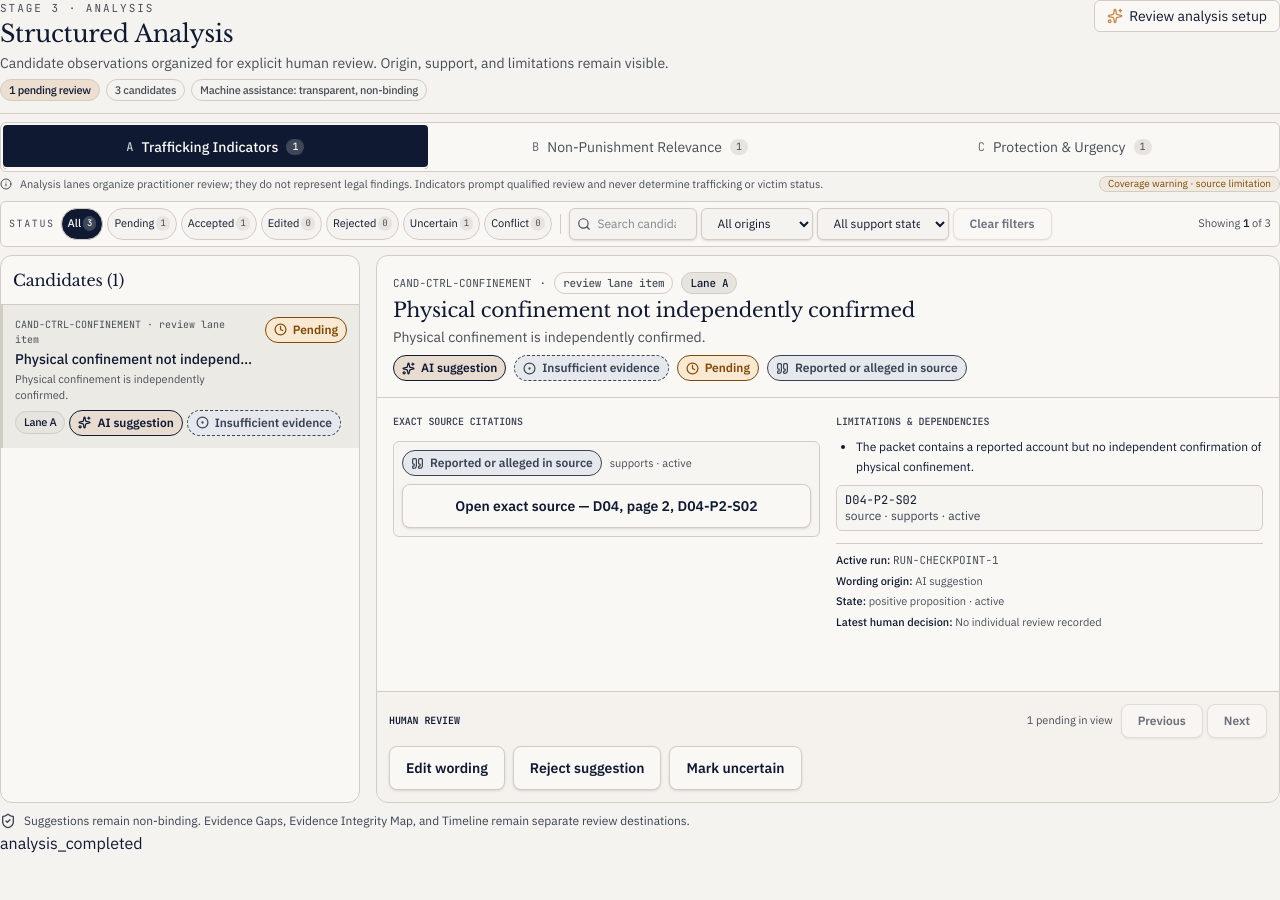
Test: Phase 3 Structured Analysis › opens withdrawal in an accessible overlay instead of expanding the workspace
Click the tab with aria-label "Lane C — Protection & Urgency". click: (1065, 147)
box: [852,125,1277,169]
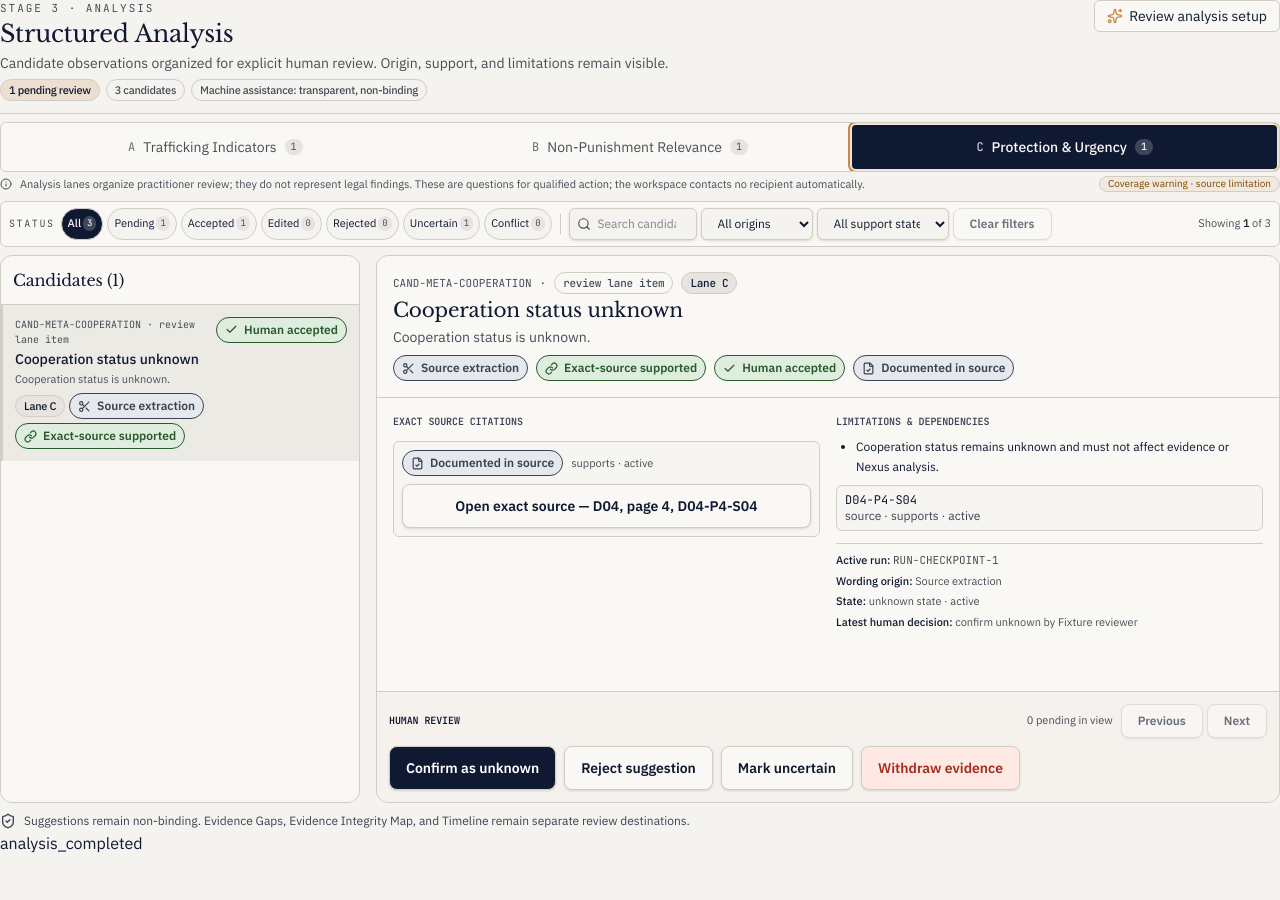
Click the button with aria-label "Select candidate CAND-META-COOPERATION". click: (78, 324)
box: [1,304,359,461]
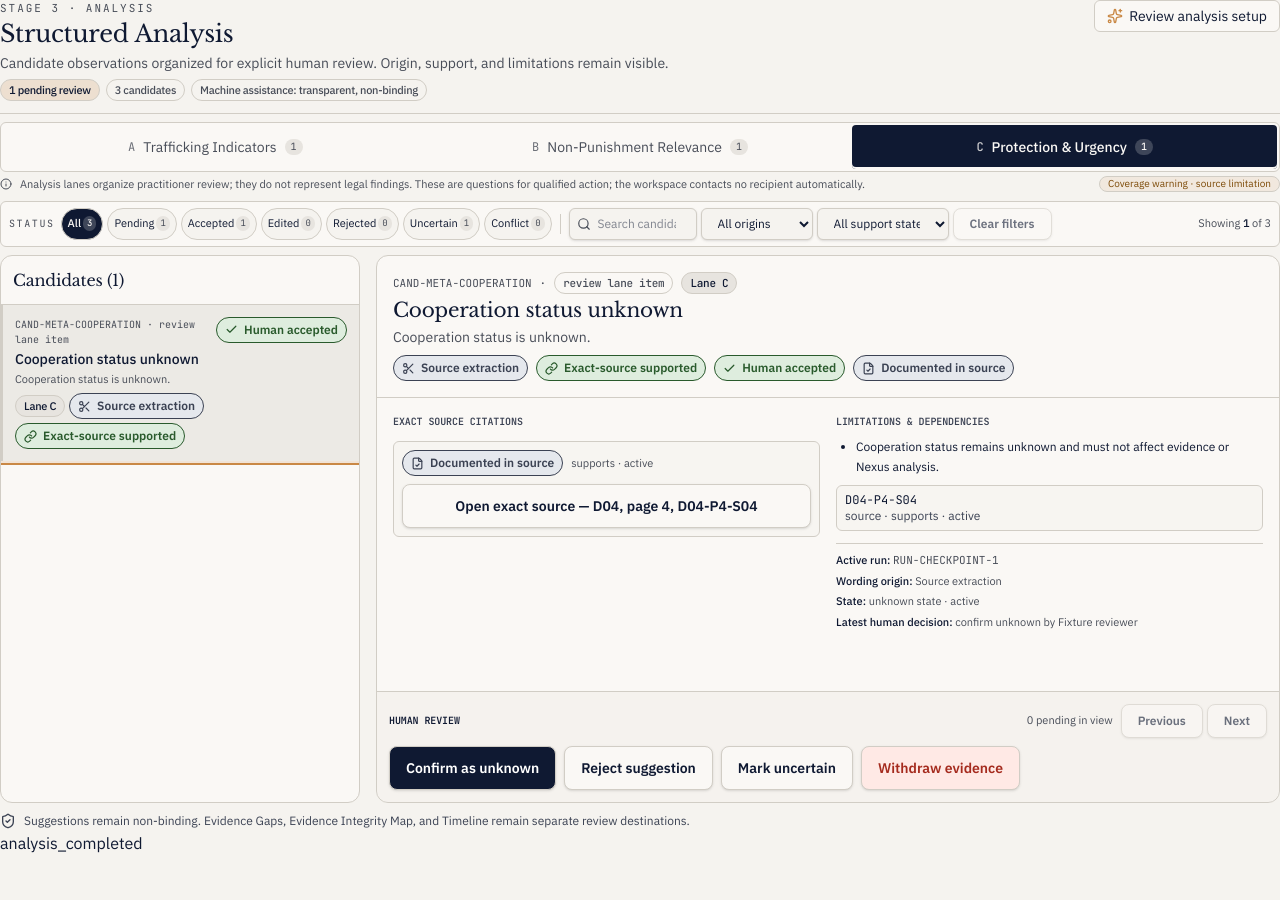
Click the button "Withdraw evidence". click: (940, 768)
box: [861,746,1020,790]
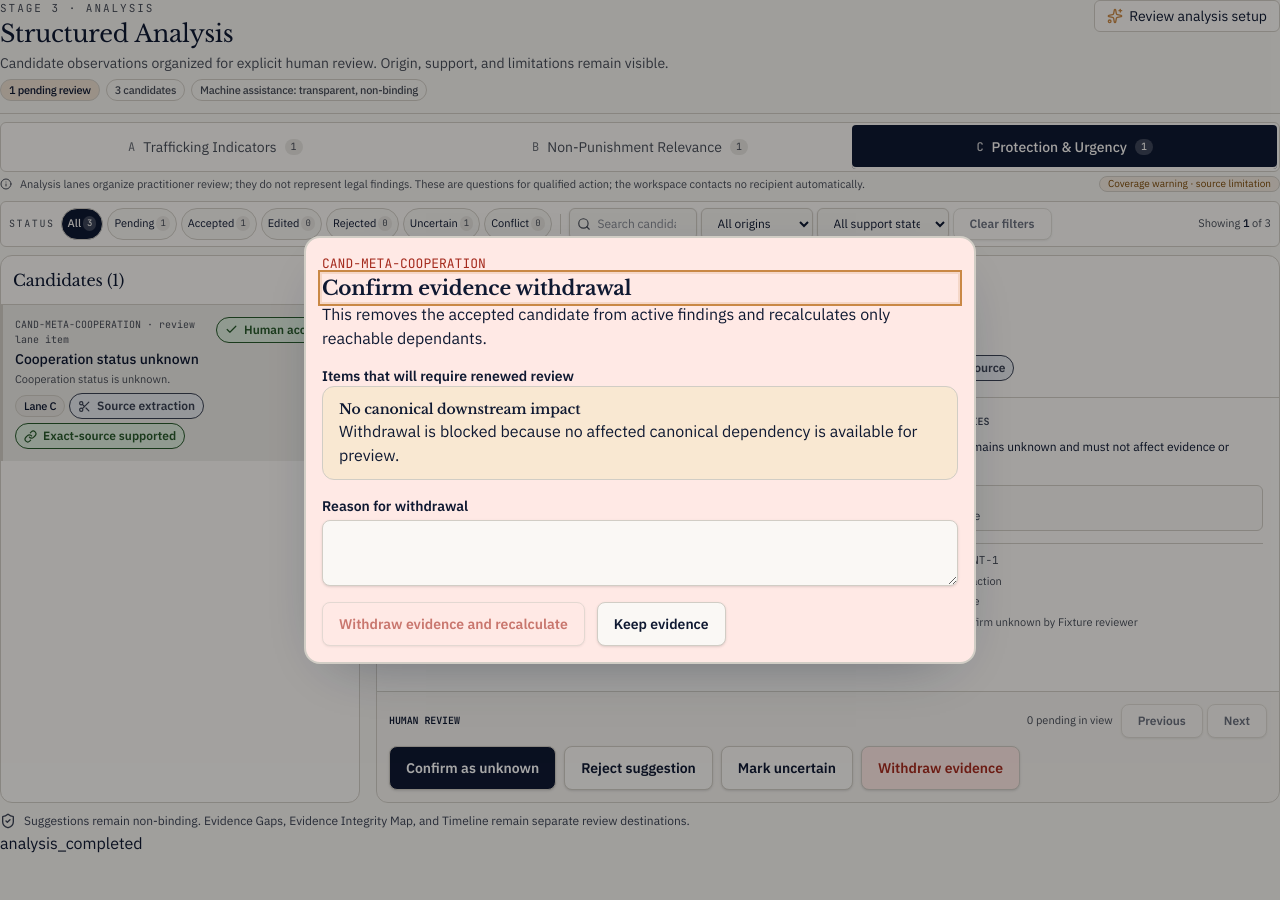
Click the button "Keep evidence". click: (661, 624)
box: [597,602,726,646]
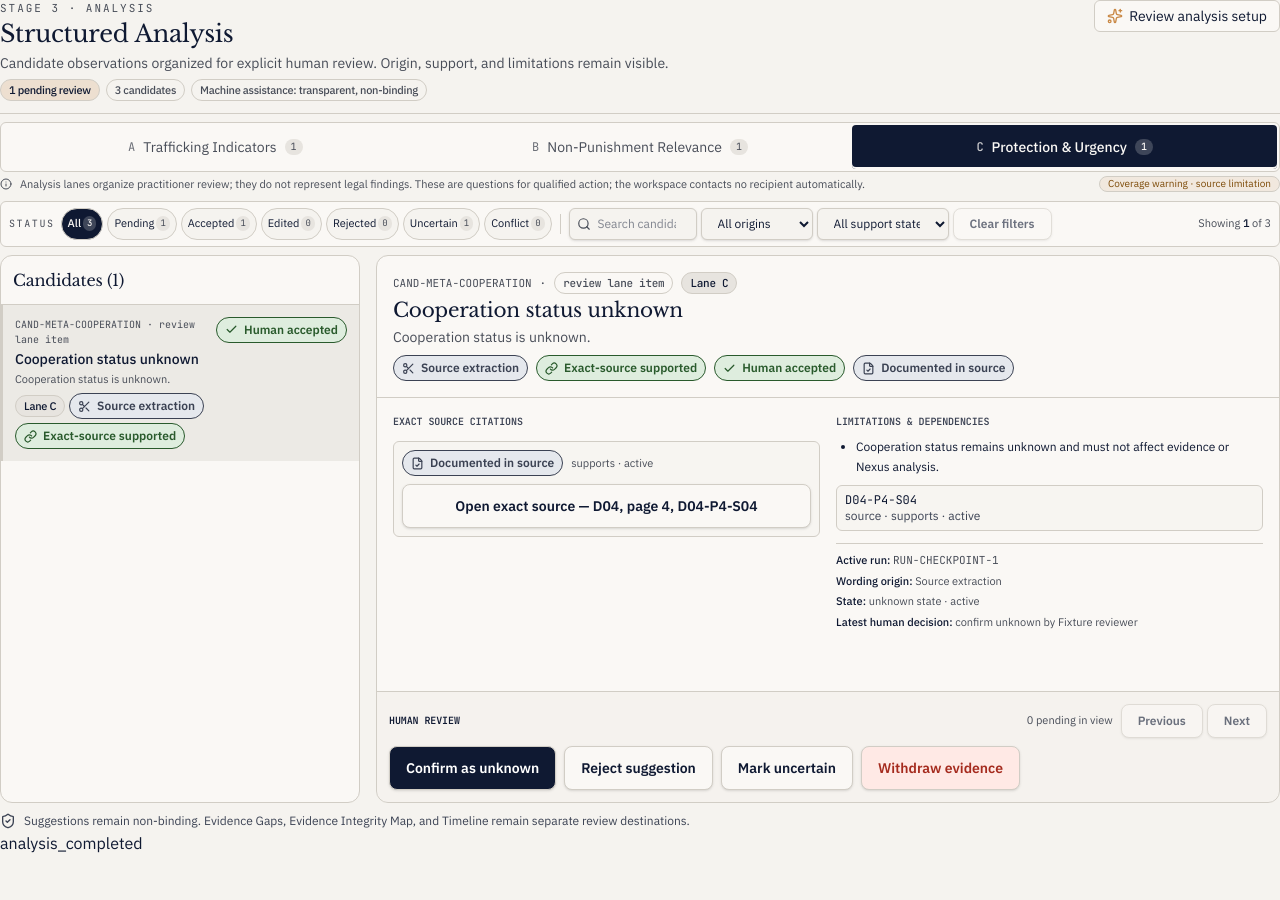
Expected: the heading "Confirm evidence withdrawal" is gone
